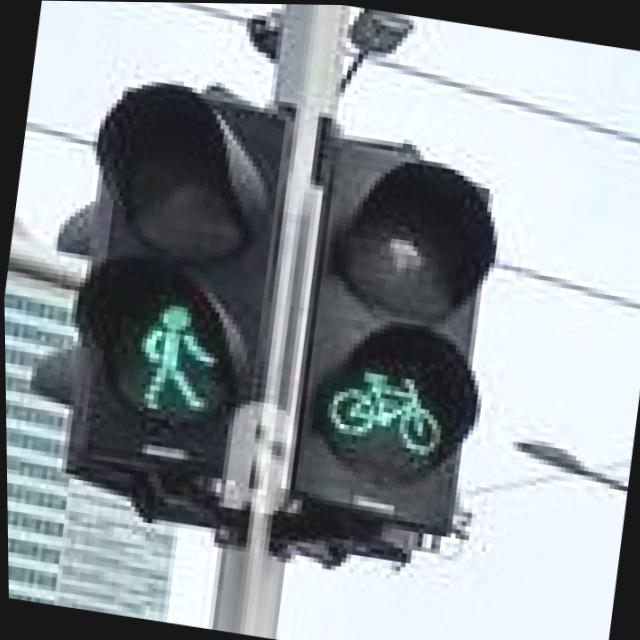green_light: (120, 284, 233, 430)
